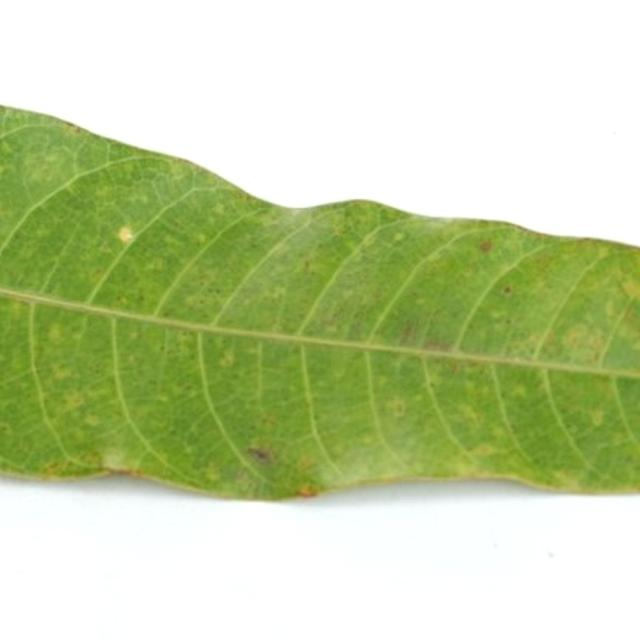Mango: (0, 108, 639, 498)
Powdery_Mildew: (563, 325, 596, 353), (104, 220, 139, 246), (101, 448, 138, 472), (422, 340, 454, 356), (399, 323, 421, 345), (51, 362, 75, 382), (523, 332, 546, 351), (620, 278, 640, 299), (555, 468, 579, 485), (247, 446, 272, 462), (296, 454, 317, 473), (472, 442, 497, 457), (46, 322, 64, 342), (218, 348, 236, 368), (332, 217, 349, 238), (81, 451, 103, 466), (43, 461, 64, 475), (589, 408, 605, 426), (204, 466, 222, 482), (622, 304, 637, 323), (297, 483, 317, 496), (604, 299, 617, 317), (511, 385, 527, 399), (84, 414, 101, 427), (259, 416, 277, 428), (392, 402, 405, 417), (213, 204, 227, 216), (67, 123, 82, 134), (479, 240, 492, 252), (194, 232, 207, 244), (393, 231, 405, 242), (158, 393, 169, 402), (303, 259, 311, 271), (502, 285, 512, 294)
